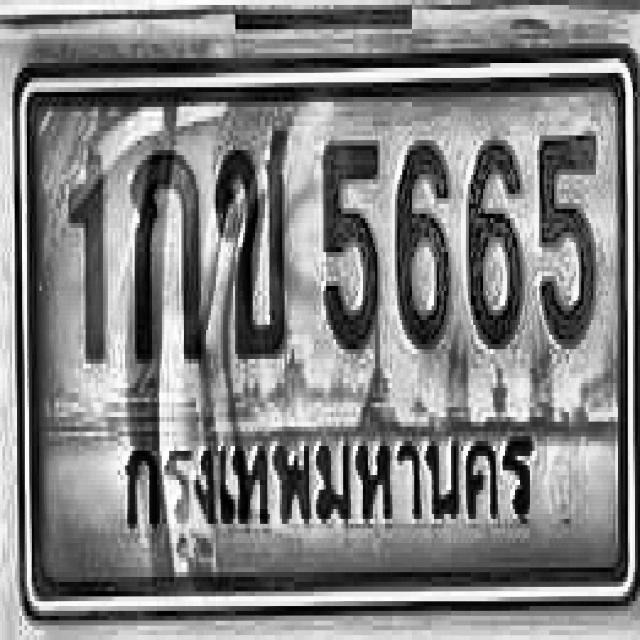license-plate: (15, 40, 640, 610)
